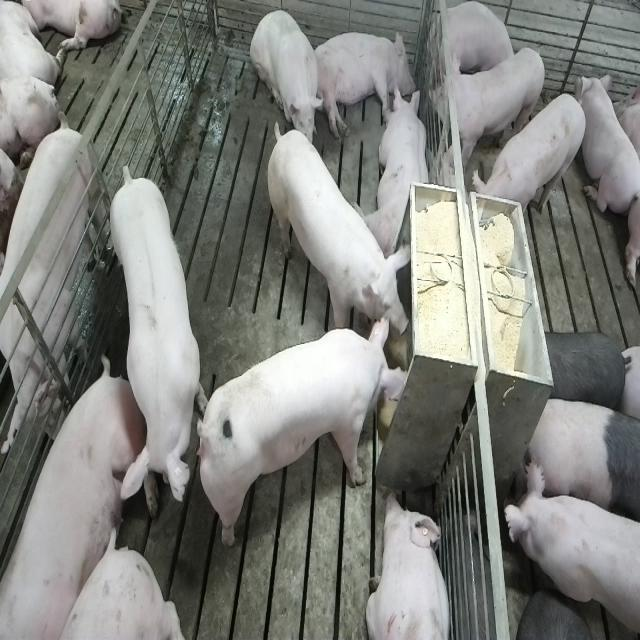Feeding: (196, 325, 410, 553), (263, 119, 409, 351)
Lateral_lying: (4, 356, 160, 636), (311, 27, 418, 140)
Sitting: (251, 6, 325, 152)
Standing: (0, 112, 102, 459), (109, 162, 206, 524), (504, 460, 640, 640), (519, 395, 638, 534), (474, 92, 588, 236)
Sternal_lying: (364, 490, 453, 640), (364, 84, 432, 264), (580, 72, 638, 222), (434, 2, 516, 88)
